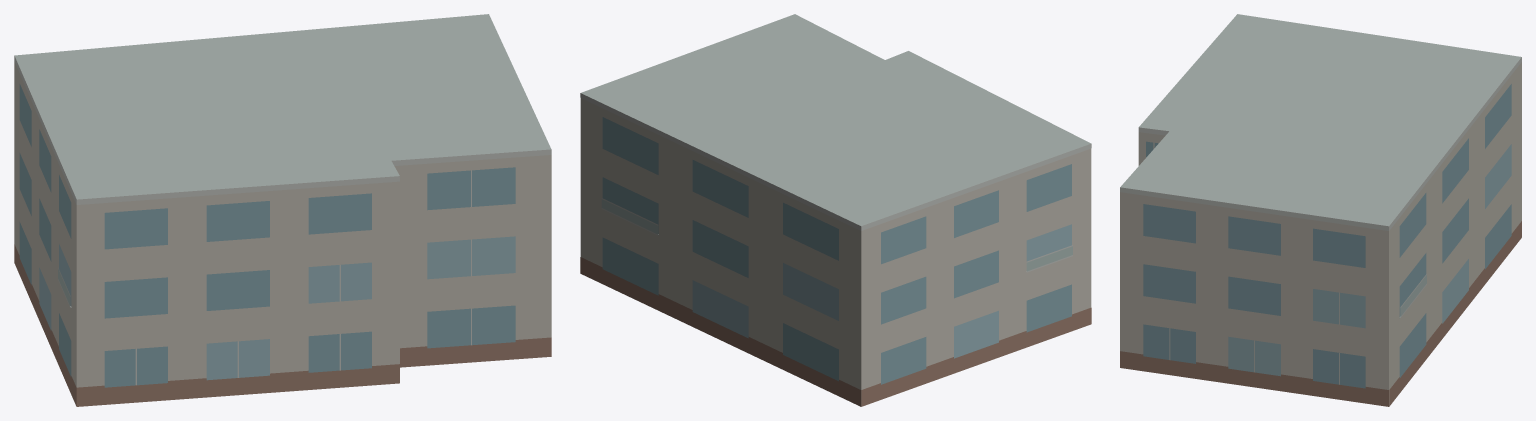
The model's file is survey-upis-32470591.glb.
3 views of the same model, side by side, from view 1: azimuth 30°, elevation 25°; view 2: azimuth 150°, elevation 25°; view 3: azimuth 270°, elevation 25° (orthographic). The views are drawn at different scales.
Parts seen in each view (by area): view 1: survey-upis-32470591.tmp; view 2: survey-upis-32470591.tmp; view 3: survey-upis-32470591.tmp.
Part boxes in pixels (x1,y1,x2,y2): survey-upis-32470591.tmp: [14, 14, 551, 406]; survey-upis-32470591.tmp: [580, 14, 1091, 406]; survey-upis-32470591.tmp: [1120, 14, 1521, 406].
Bounding box in the file's own units: 23.07 × 9.15 × 18.46.
